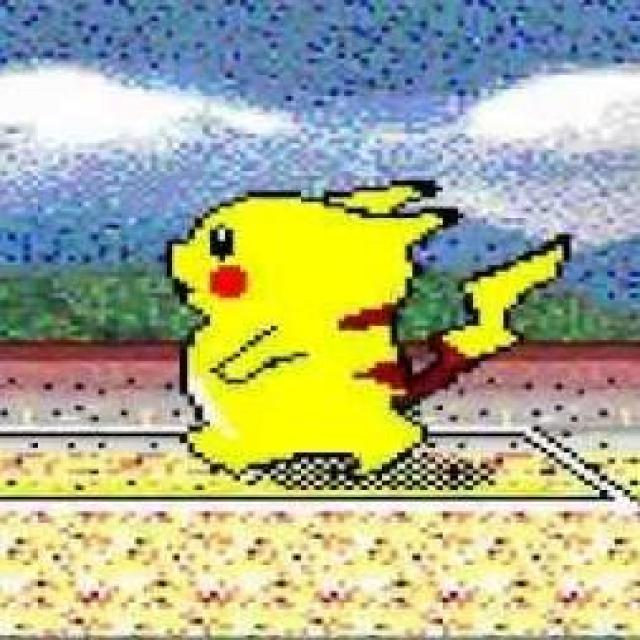pikachu: (168, 179, 570, 476)
